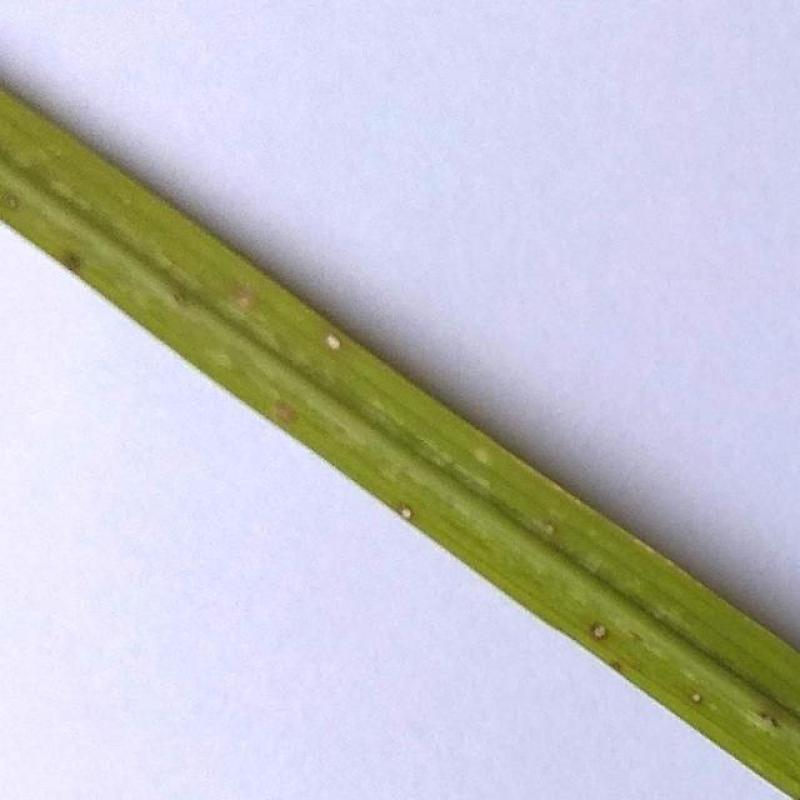Leaf_Blast: (564, 579, 664, 691), (198, 254, 290, 351), (255, 365, 336, 453), (378, 473, 454, 552), (312, 316, 358, 375)
